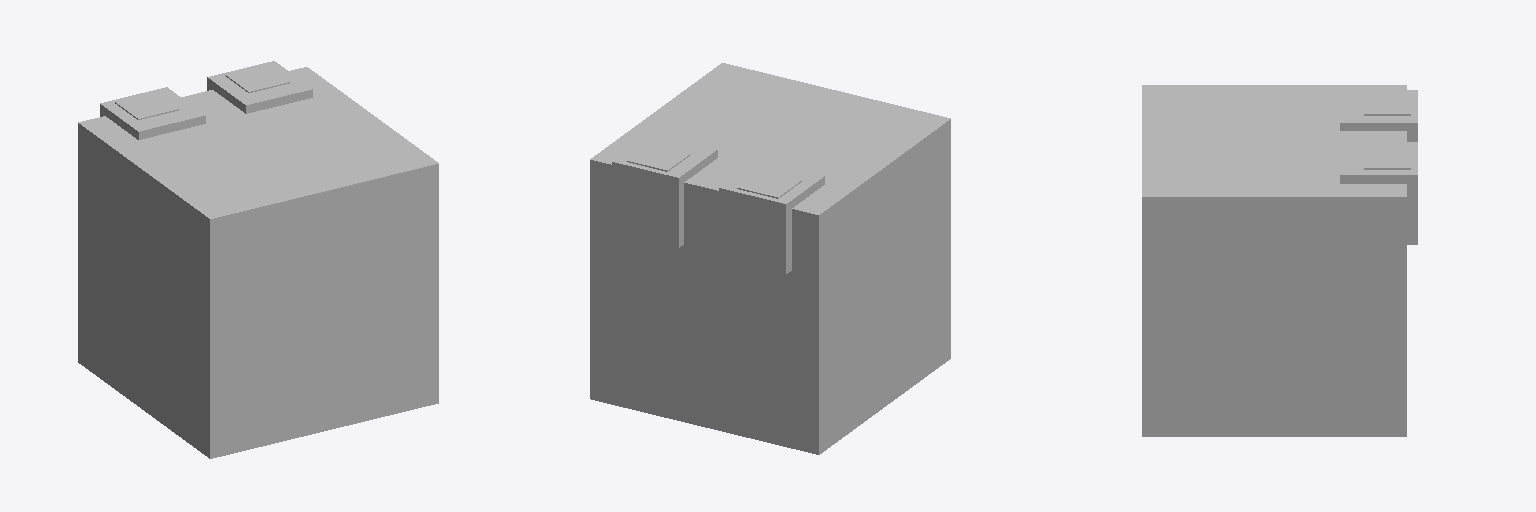
The model's file is snake head.obj.
The picture shows the model from 3 angles: view 1: azimuth 30°, elevation 25°; view 2: azimuth 150°, elevation 25°; view 3: azimuth 270°, elevation 25°; orthographic projection.
Parts seen in each view (by area): view 1: Cube, eyes, eyes.001; view 2: Cube, eyes, eyes.001; view 3: Cube, eyes, eyes.001.
Boxes of the visible parts, <box> form: Cube: <box>78,67,438,458</box>; eyes: <box>100,61,312,139</box>; eyes.001: <box>115,65,289,119</box>; Cube: <box>590,63,950,454</box>; eyes: <box>612,133,824,273</box>; eyes.001: <box>627,143,801,198</box>; Cube: <box>1142,85,1406,436</box>; eyes: <box>1340,90,1417,244</box>; eyes.001: <box>1364,94,1410,169</box>.
Size of the model in its own units: 2 by 2.08 by 2.08.